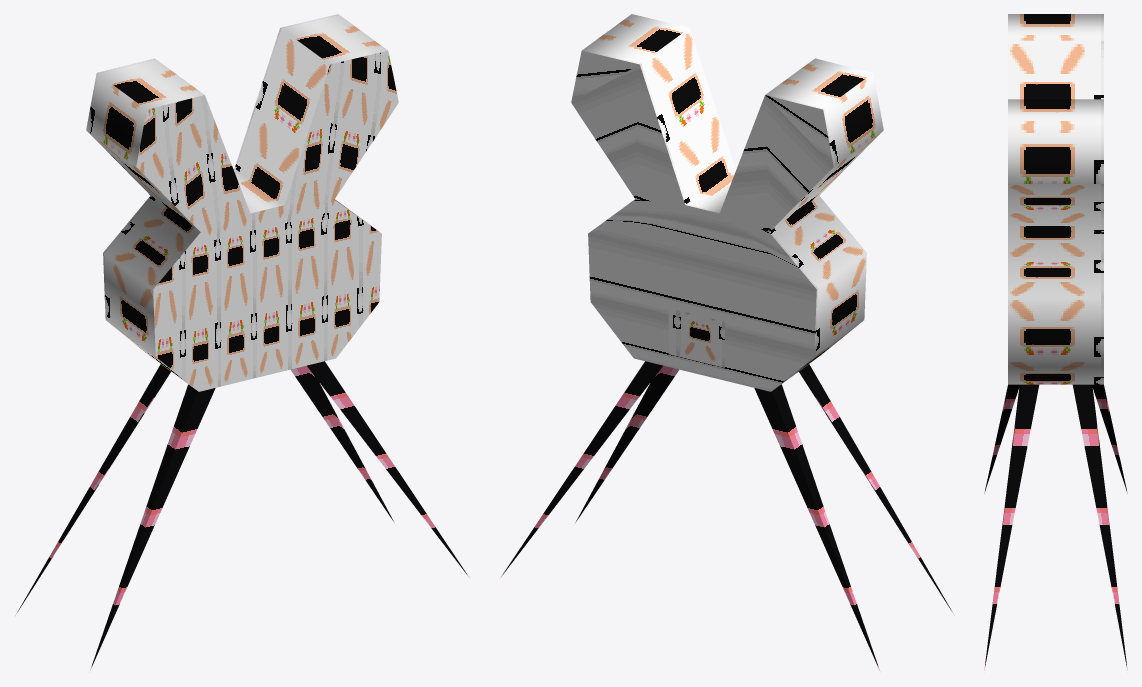
File: 3847kg3_ser28.gltf
3 renders of one model, left to right at view 1: azimuth 30°, elevation 25°; view 2: azimuth 150°, elevation 25°; view 3: azimuth 270°, elevation 25°, orthographic. The views are drawn at different scales.
Parts seen in each view (by area): view 1: 3847kg3_ser28; view 2: 3847kg3_ser28; view 3: 3847kg3_ser28.
Part boxes in pixels (left/top/right/bottom): 3847kg3_ser28: left=15, top=14, right=469, bottom=670; 3847kg3_ser28: left=500, top=14, right=954, bottom=670; 3847kg3_ser28: left=984, top=14, right=1127, bottom=670.
Size of the model in its own units: 1.43 by 1.93 by 0.4897.
Materials: 4 (4 with a texture image).
